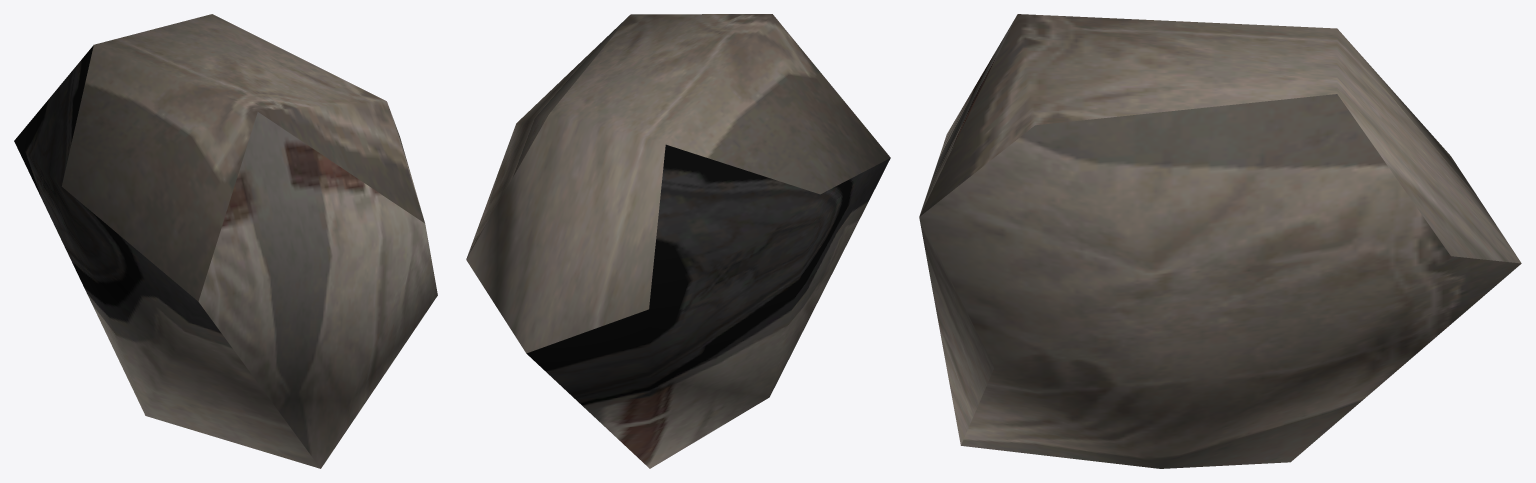
The model's file is dest_nt_nuked_male_03_head_LOD3.obj.
3 renders of one model, left to right at view 1: azimuth 30°, elevation 25°; view 2: azimuth 150°, elevation 25°; view 3: azimuth 270°, elevation 25°, orthographic. The views are drawn at different scales.
Parts seen in each view (by area): view 1: mtl_nt_2020_manne_male01_pants1; view 2: mtl_nt_2020_manne_male01_pants1; view 3: mtl_nt_2020_manne_male01_pants1.
Boxes of the visible parts, x1=… form: mtl_nt_2020_manne_male01_pants1: x1=14, y1=14, x2=437, y2=468; mtl_nt_2020_manne_male01_pants1: x1=466, y1=14, x2=890, y2=468; mtl_nt_2020_manne_male01_pants1: x1=919, y1=14, x2=1521, y2=468.
Bounding box in the file's own units: 19.21 × 21.47 × 26.43.
